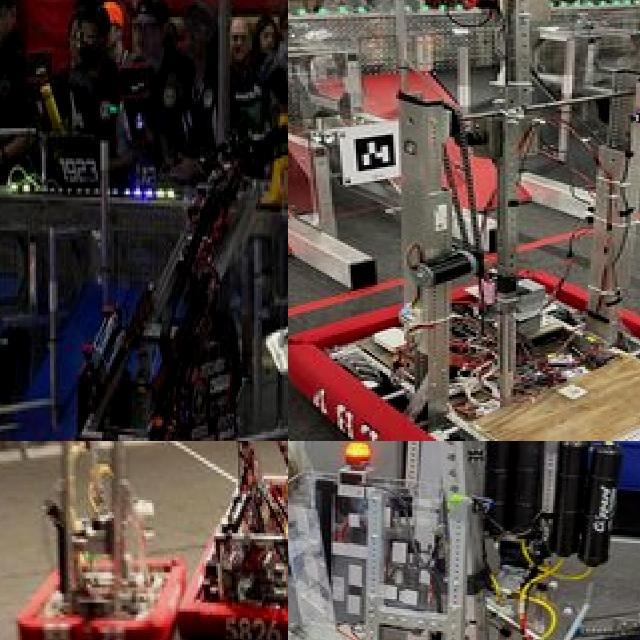FRC-Robots: (296, 34, 640, 441), (57, 114, 288, 441), (288, 441, 640, 640), (36, 441, 172, 640), (181, 441, 288, 640)
